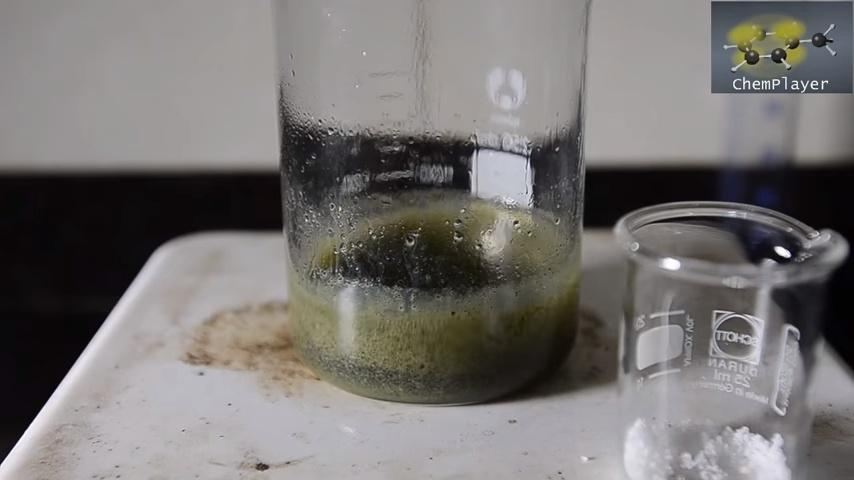Beaker: (260, 28, 581, 406), (621, 190, 833, 475)
